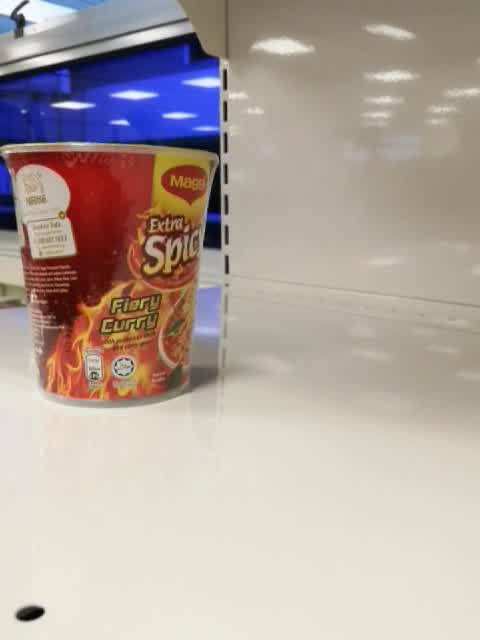maggi: (1, 142, 220, 409)
